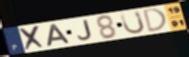8: (96, 14, 119, 41)
A: (45, 23, 73, 47)
D: (143, 7, 169, 34)
J: (76, 18, 94, 41)
U: (120, 10, 147, 35)
X: (18, 24, 47, 52)
